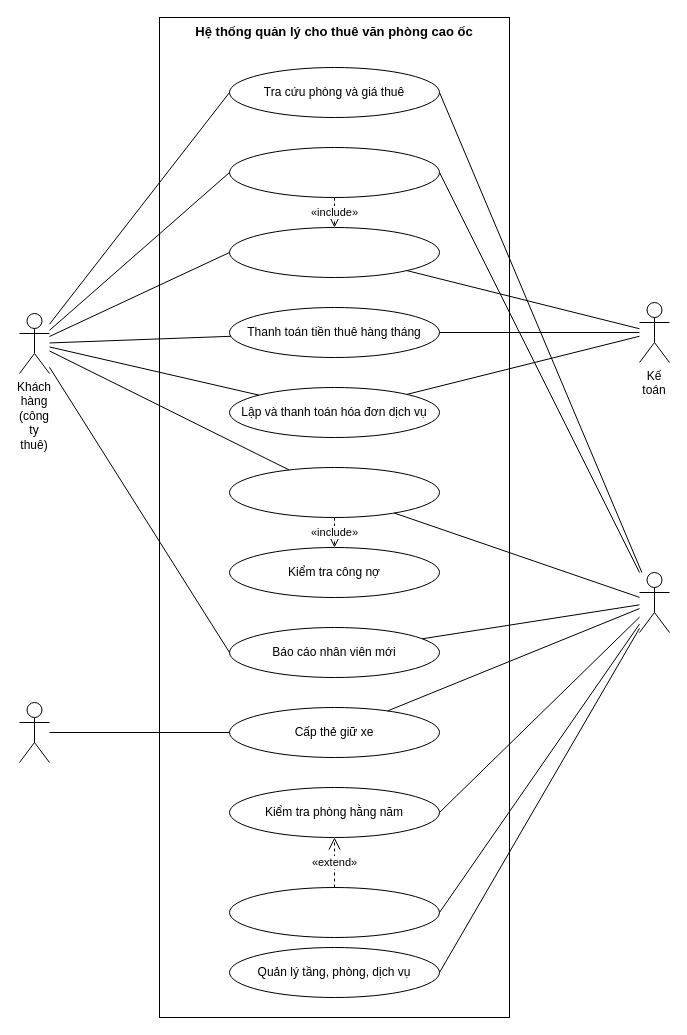
The diagram is 687 pixels wide and 1035 high, and some of its shapes have lost their labels. Here are the shapes that lost their labels. From the top down, the centre of each, then its label:
At [334,172]: "Lập hợp đồng thuê văn phòng".
At [334,252]: "Thanh toán trả trước 6 tháng".
At [334,492]: "Lập phiếu gia hạn".
At [654,602]: "Nhân viên quản lý cao ốc".
At [34,732]: "Nhân viên văn phòng".
At [334,912]: "Lập phiếu phạt".
